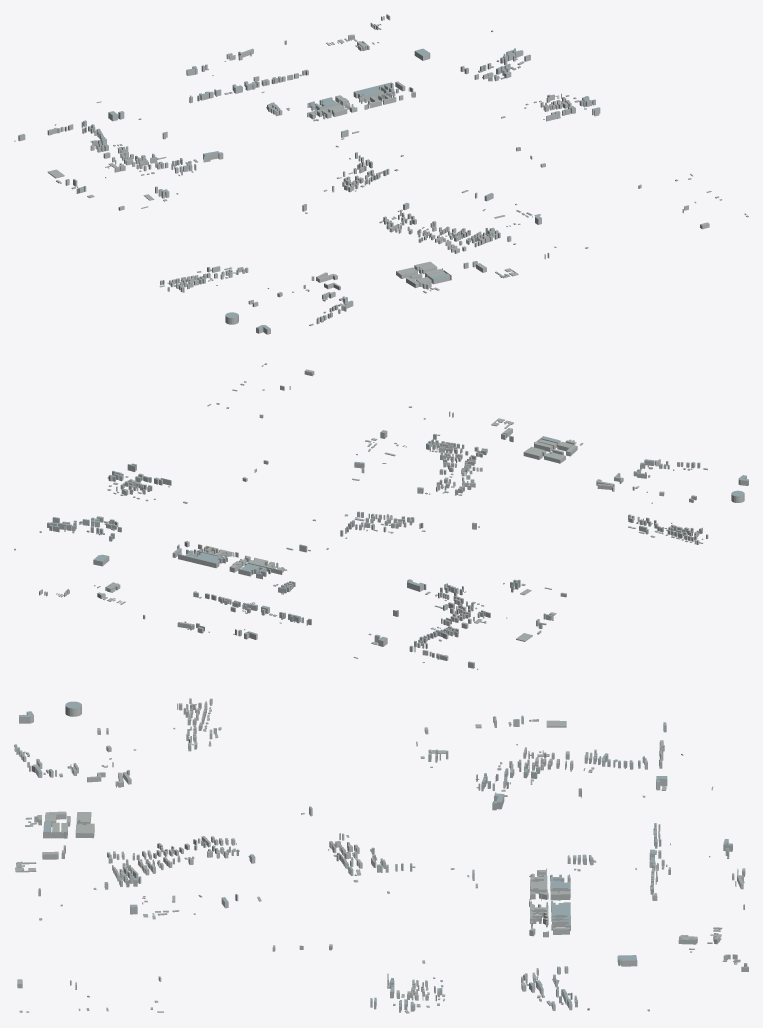
The model's file is far.glb.
3 renders of one model, top to bottom at view 1: azimuth 30°, elevation 25°; view 2: azimuth 150°, elevation 25°; view 3: azimuth 270°, elevation 25°, orthographic. The views are drawn at different scales.
Size of the model in its own units: 2105 by 26.8 by 2099.
